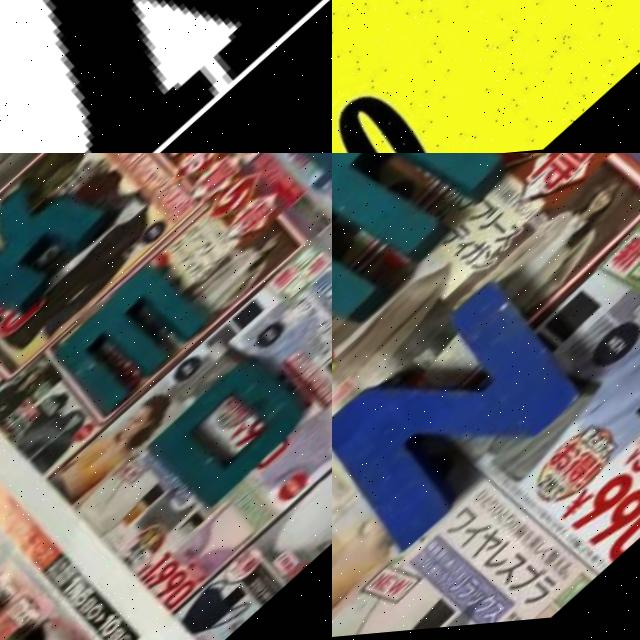0: (332, 31, 531, 153)
D: (140, 349, 330, 533)
K: (0, 0, 332, 153), (0, 156, 126, 343)
M: (332, 153, 534, 357), (48, 258, 224, 429)
N: (332, 270, 610, 563)
